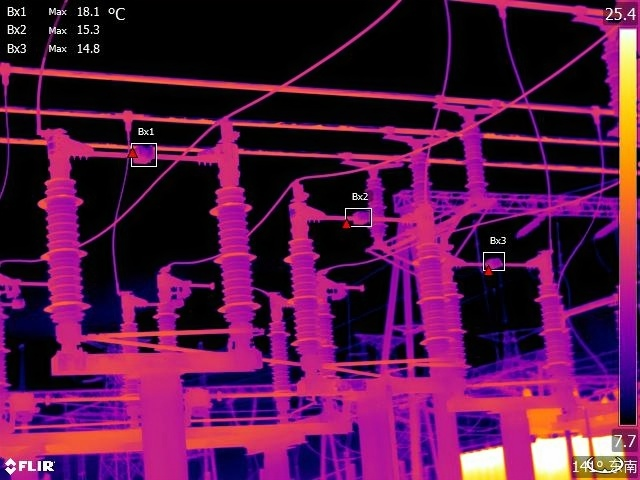post insulator: (36, 172, 97, 324), (210, 181, 263, 322), (287, 230, 328, 366), (540, 282, 581, 398), (415, 244, 453, 366), (443, 279, 472, 385), (117, 322, 143, 421), (461, 124, 494, 198), (363, 173, 393, 246), (267, 312, 291, 396), (155, 301, 183, 361), (318, 309, 340, 379), (407, 148, 434, 205)
switch: (33, 119, 245, 182), (285, 192, 433, 236), (440, 247, 555, 279), (565, 287, 621, 319)
